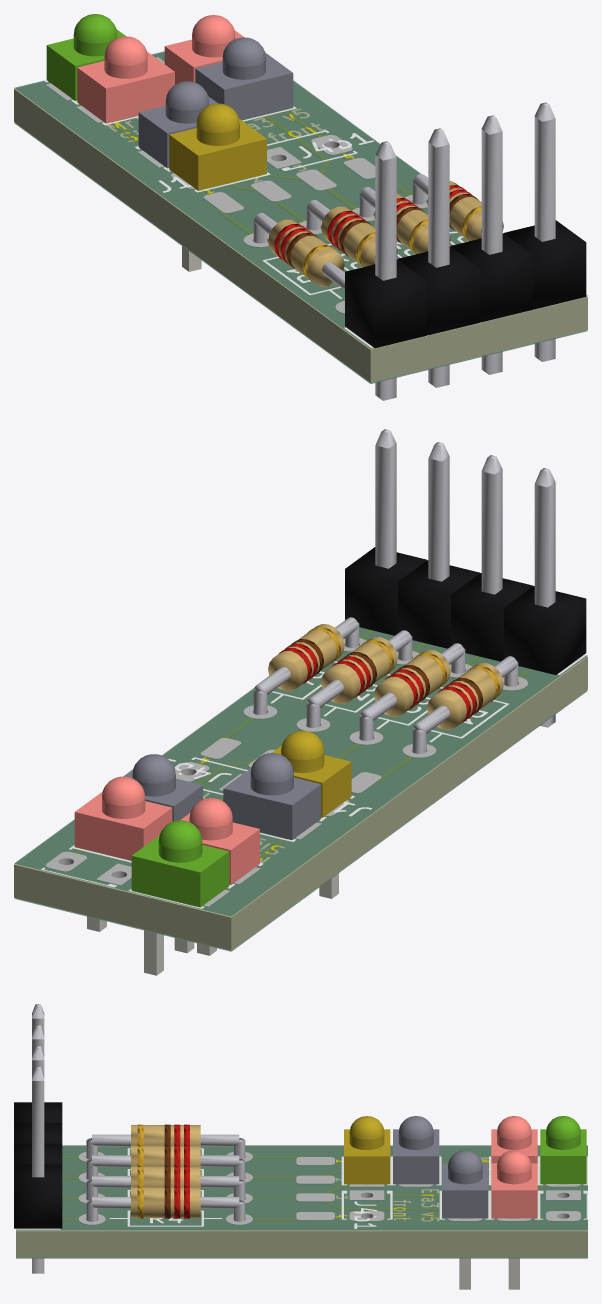
File: MrJ-DB-Era3-breadboard-exit-Hp0.glb
3 views of the same model, one above another, from view 1: azimuth 30°, elevation 25°; view 2: azimuth 150°, elevation 25°; view 3: azimuth 270°, elevation 25° (orthographic). The views are drawn at different scales.
Visible parts, largest first — view 1: =>[0:1:1:19], =>[0:1:1:3] (×4), =>[0:1:1:17], =>[0:1:1:5] (×4), =>[0:1:1:13] (×2), =>[0:1:1:7] (×2), =>[0:1:1:11], =>[0:1:1:15], =>[0:1:1:9], =>[0:1:1:16], =>[0:1:1:14], =>[0:1:1:18]; view 2: =>[0:1:1:19], =>[0:1:1:3] (×4), =>[0:1:1:17], =>[0:1:1:5] (×4), =>[0:1:1:7] (×2), =>[0:1:1:13] (×2), =>[0:1:1:9], =>[0:1:1:15], =>[0:1:1:11], =>[0:1:1:16], =>[0:1:1:14], =>[0:1:1:18]; view 3: =>[0:1:1:19], =>[0:1:1:17], =>[0:1:1:5] (×4), =>[0:1:1:3] (×4), =>[0:1:1:13] (×2), =>[0:1:1:7] (×2), =>[0:1:1:15], =>[0:1:1:11], =>[0:1:1:9], =>[0:1:1:16], =>[0:1:1:18], =>[0:1:1:14].
Part boxes in pixels (<box>): =>[0:1:1:19]: <box>14,53,587,382</box>; =>[0:1:1:3] (×4): <box>345,102,586,400</box>; =>[0:1:1:17]: <box>14,51,587,348</box>; =>[0:1:1:5] (×4): <box>253,174,503,289</box>; =>[0:1:1:13] (×2): <box>138,37,293,168</box>; =>[0:1:1:7] (×2): <box>77,15,243,123</box>; =>[0:1:1:11]: <box>169,103,266,271</box>; =>[0:1:1:15]: <box>46,57,427,313</box>; =>[0:1:1:9]: <box>46,14,125,100</box>; =>[0:1:1:16]: <box>43,50,586,347</box>; =>[0:1:1:14]: <box>112,111,412,234</box>; =>[0:1:1:18]: <box>14,123,587,383</box>; =>[0:1:1:19]: <box>14,628,587,950</box>; =>[0:1:1:3] (×4): <box>345,429,586,727</box>; =>[0:1:1:17]: <box>14,627,587,916</box>; =>[0:1:1:5] (×4): <box>253,617,518,753</box>; =>[0:1:1:7] (×2): <box>74,776,259,953</box>; =>[0:1:1:13] (×2): <box>123,753,320,839</box>; =>[0:1:1:9]: <box>131,820,229,975</box>; =>[0:1:1:15]: <box>45,638,528,906</box>; =>[0:1:1:11]: <box>272,730,351,898</box>; =>[0:1:1:16]: <box>41,654,586,908</box>; =>[0:1:1:14]: <box>75,630,532,860</box>; =>[0:1:1:18]: <box>14,690,587,951</box>; =>[0:1:1:19]: <box>16,1147,587,1257</box>; =>[0:1:1:17]: <box>16,1145,587,1230</box>; =>[0:1:1:5] (×4): <box>86,1124,245,1221</box>; =>[0:1:1:3] (×4): <box>14,1004,62,1273</box>; =>[0:1:1:13] (×2): <box>393,1116,488,1289</box>; =>[0:1:1:7] (×2): <box>491,1116,537,1289</box>; =>[0:1:1:15]: <box>78,1152,580,1224</box>; =>[0:1:1:11]: <box>344,1116,390,1184</box>; =>[0:1:1:9]: <box>540,1116,586,1184</box>; =>[0:1:1:16]: <box>16,1148,587,1229</box>; =>[0:1:1:18]: <box>16,1257,587,1258</box>; =>[0:1:1:14]: <box>63,1156,546,1220</box>.
Bounding box in the file's own units: 0.0104 × 0.0127 × 0.0297.
